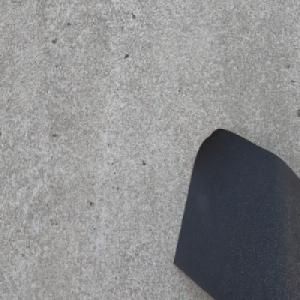PaintChip: (173, 127, 300, 300)
